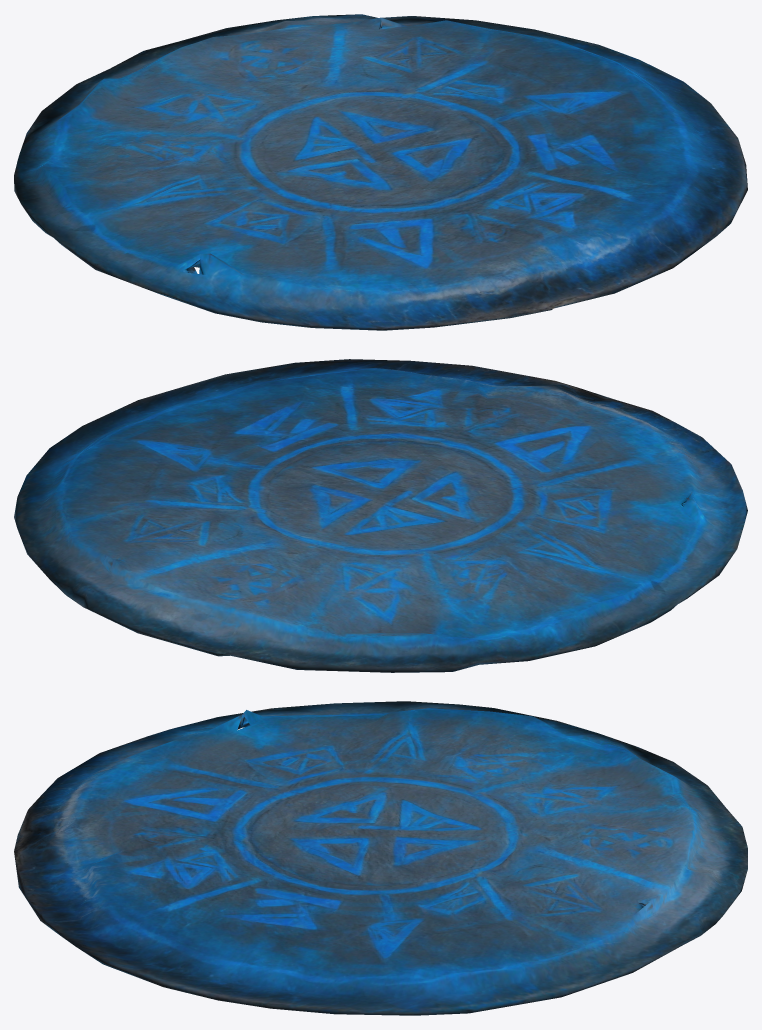
File: water_puddle_1212161613_texture.fbx
3 renders of one model, top to bottom at view 1: azimuth 30°, elevation 25°; view 2: azimuth 150°, elevation 25°; view 3: azimuth 270°, elevation 25°, orthographic.
Parts seen in each view (by area): view 1: Mesh1_Mesh1.032; view 2: Mesh1_Mesh1.032; view 3: Mesh1_Mesh1.032.
Part boxes in pixels (x1,y1,x2,y2): Mesh1_Mesh1.032: (14,14,747,330); Mesh1_Mesh1.032: (14,359,747,672); Mesh1_Mesh1.032: (14,701,747,1015).
Bounding box in the file's own units: 200 × 9.4 × 200.
1 material, 1 textured.
